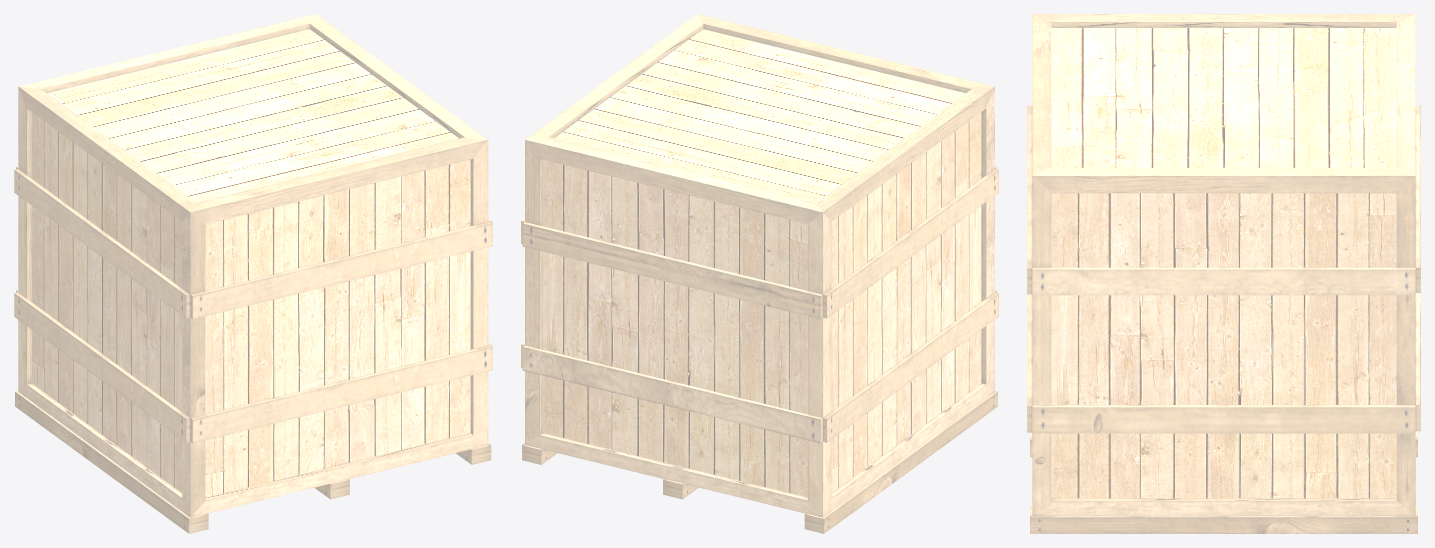
The picture shows the model from 3 angles, left to right: view 1: azimuth 30°, elevation 25°; view 2: azimuth 150°, elevation 25°; view 3: azimuth 270°, elevation 25°; orthographic projection. The views are drawn at different scales.
Parts seen in each view (by area): view 1: bin; view 2: bin; view 3: bin.
Boxes of the visible parts, x1,y1,x2,y2 form: bin: (14, 14, 492, 533); bin: (521, 14, 998, 533); bin: (1027, 14, 1420, 533).
Size of the model in its own units: 1 by 1 by 1.
Materials: 2 (2 with a texture image).
